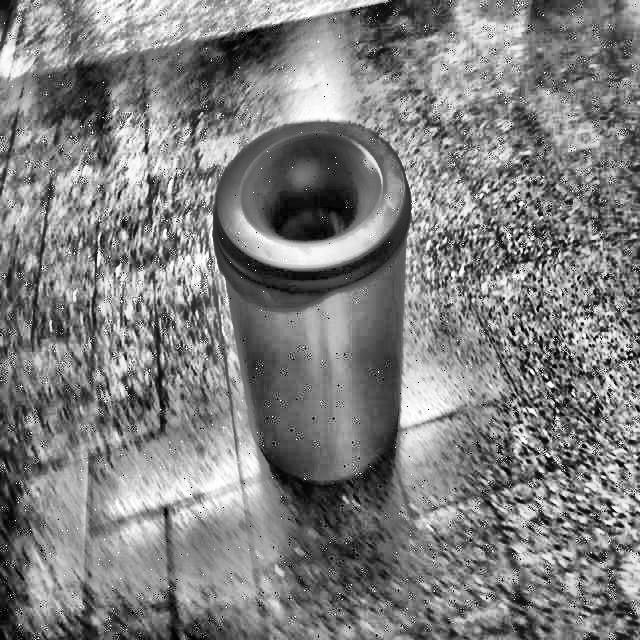Dustbin: (189, 99, 451, 516)
